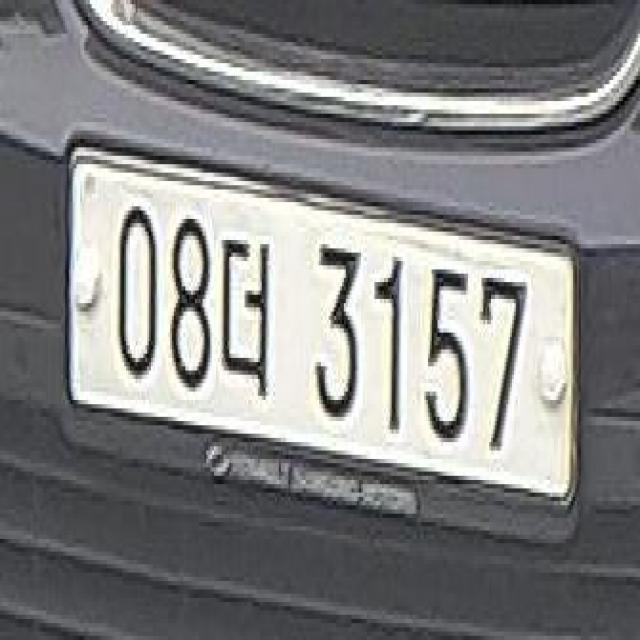illegal_plate: (66, 143, 585, 535)
